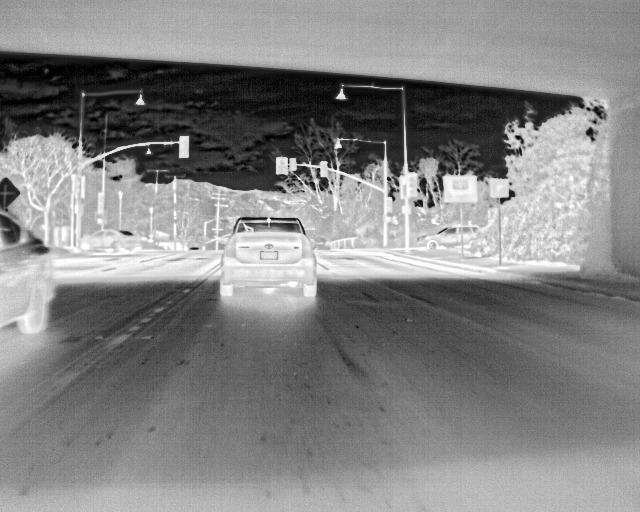car: (219, 217, 320, 298), (0, 208, 55, 337), (417, 226, 480, 250), (81, 229, 141, 253)
light: (179, 136, 189, 158), (276, 157, 288, 175), (408, 176, 417, 196), (400, 178, 406, 199), (74, 177, 81, 194), (321, 161, 327, 177), (386, 197, 392, 212), (386, 217, 391, 223), (98, 219, 103, 224)
sign: (443, 175, 477, 203), (0, 177, 21, 209), (490, 178, 509, 198), (289, 158, 296, 171), (402, 206, 411, 213)
